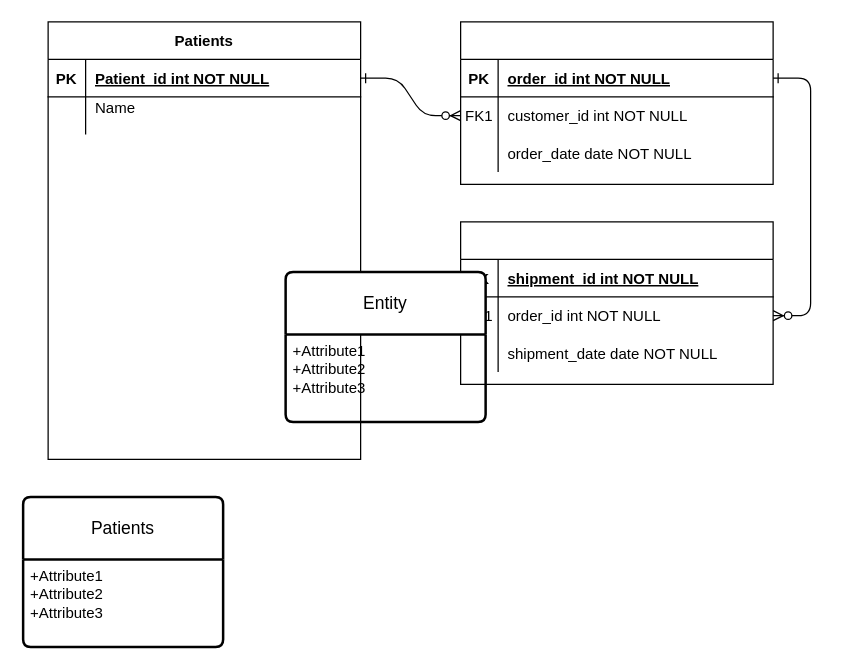
Some shapes in this 844 by 670 pixel diagram are drawn without their labels. Each missing label, with the box of its shape:
Orders: (459, 21, 773, 184)
Shipments: (459, 221, 773, 384)
